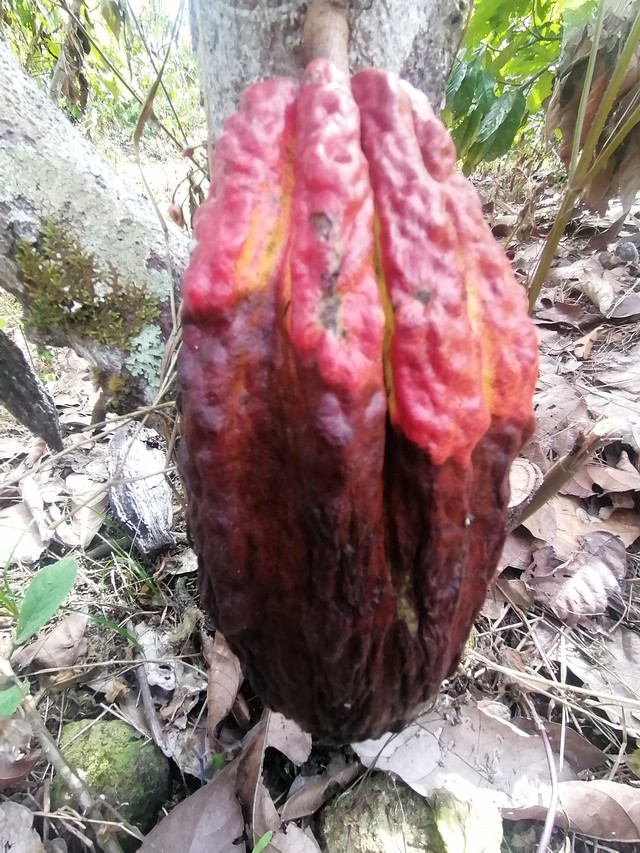phytophthora palmivora: (143, 37, 552, 754)
